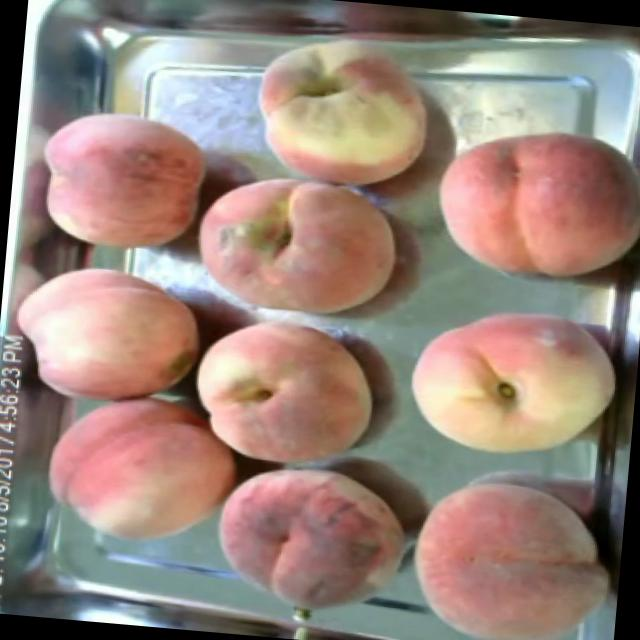Fruit: (388, 286, 632, 484), (386, 454, 626, 640), (195, 445, 431, 634), (421, 106, 640, 299), (234, 17, 450, 200), (178, 164, 416, 328), (32, 384, 250, 559), (178, 300, 394, 475), (21, 94, 227, 268), (2, 249, 214, 416)
